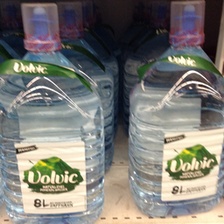water: (1, 1, 104, 224), (125, 1, 224, 218)
